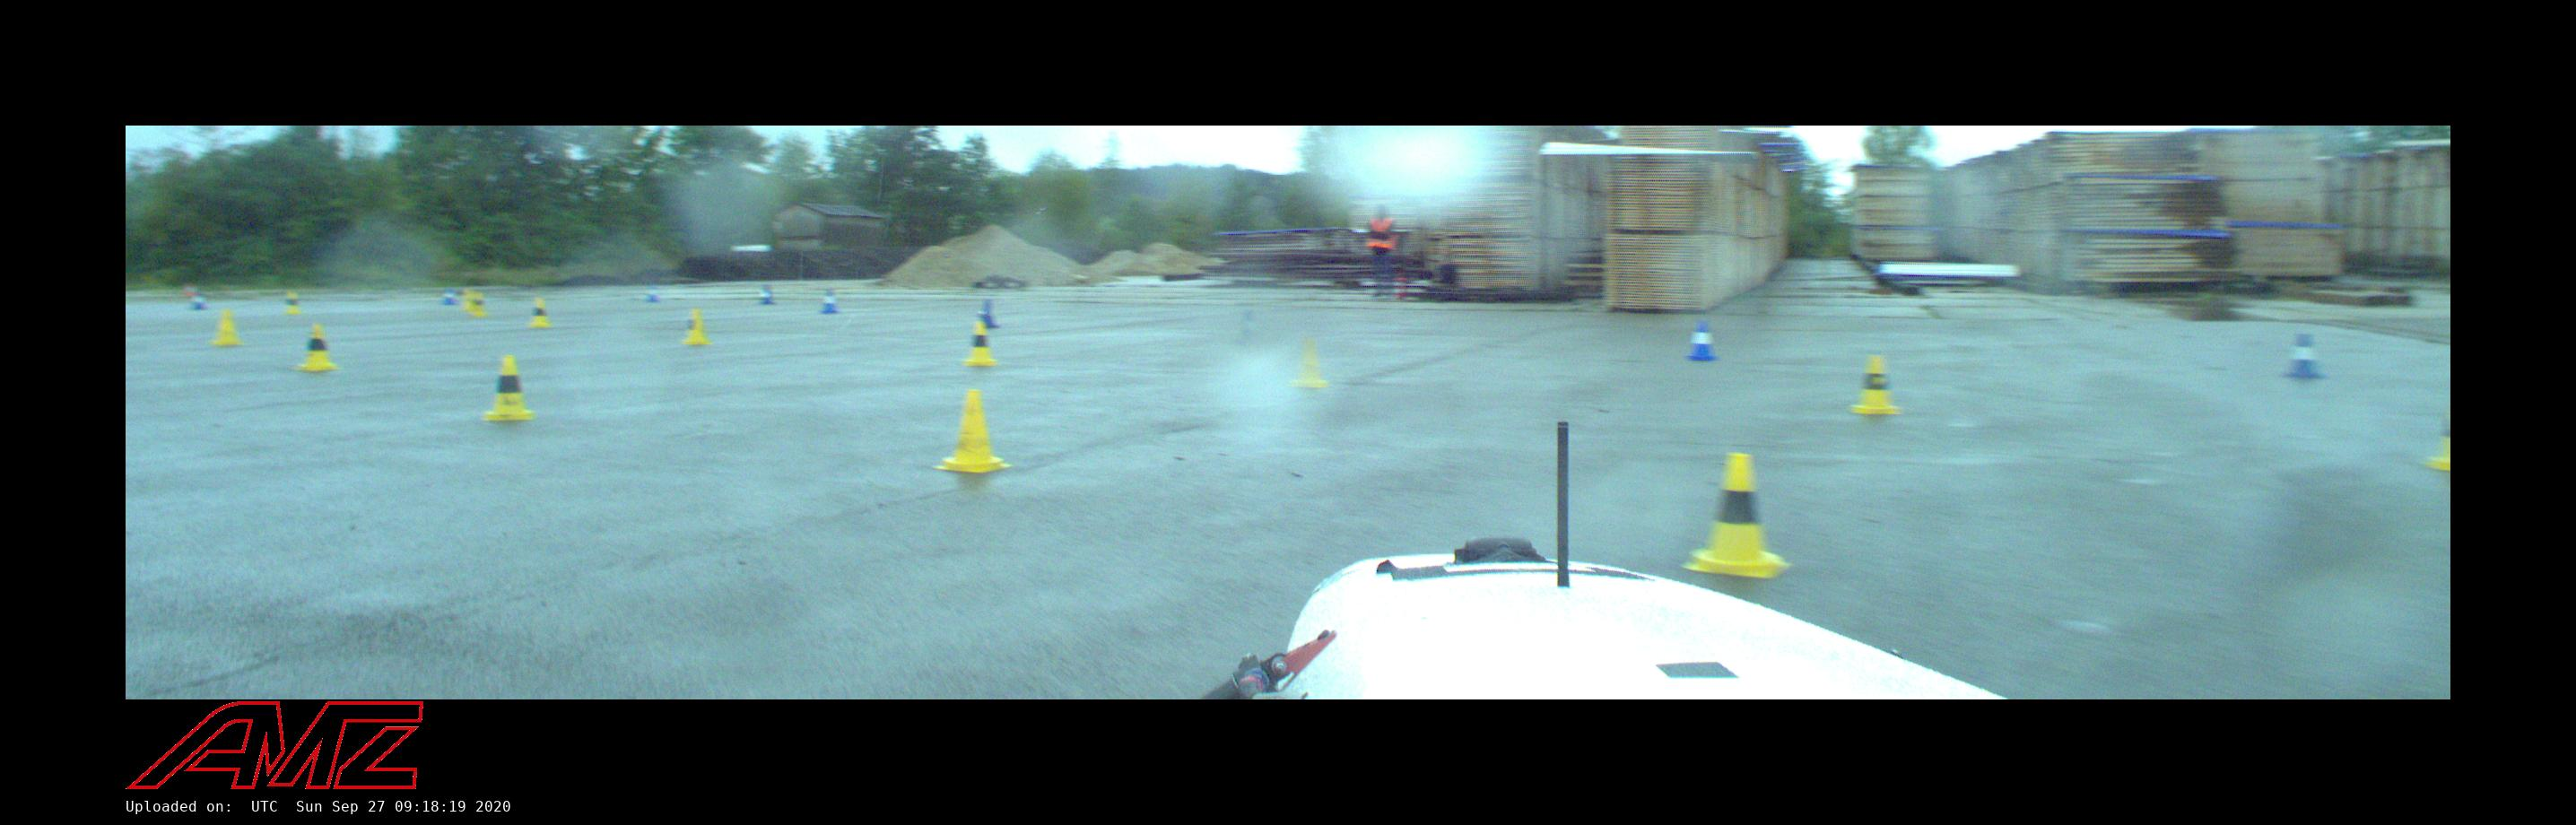blue_cone: (2284, 334, 2326, 378), (1685, 321, 1718, 360), (979, 301, 998, 328), (820, 290, 838, 314), (759, 284, 773, 304), (191, 292, 205, 309), (645, 288, 658, 302), (442, 290, 455, 305)
yellow_cone: (1684, 454, 1791, 577), (933, 390, 1013, 473), (483, 356, 535, 421), (1850, 356, 1900, 412), (294, 325, 338, 370), (1290, 340, 1327, 387), (963, 322, 996, 366), (210, 309, 244, 345), (681, 309, 711, 344), (529, 300, 550, 327), (283, 293, 301, 314)
